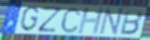B: (118, 9, 143, 36)
C: (60, 6, 82, 34)
G: (19, 6, 40, 33)
H: (76, 7, 106, 35)
N: (98, 8, 125, 37)
Z: (36, 6, 64, 34)
